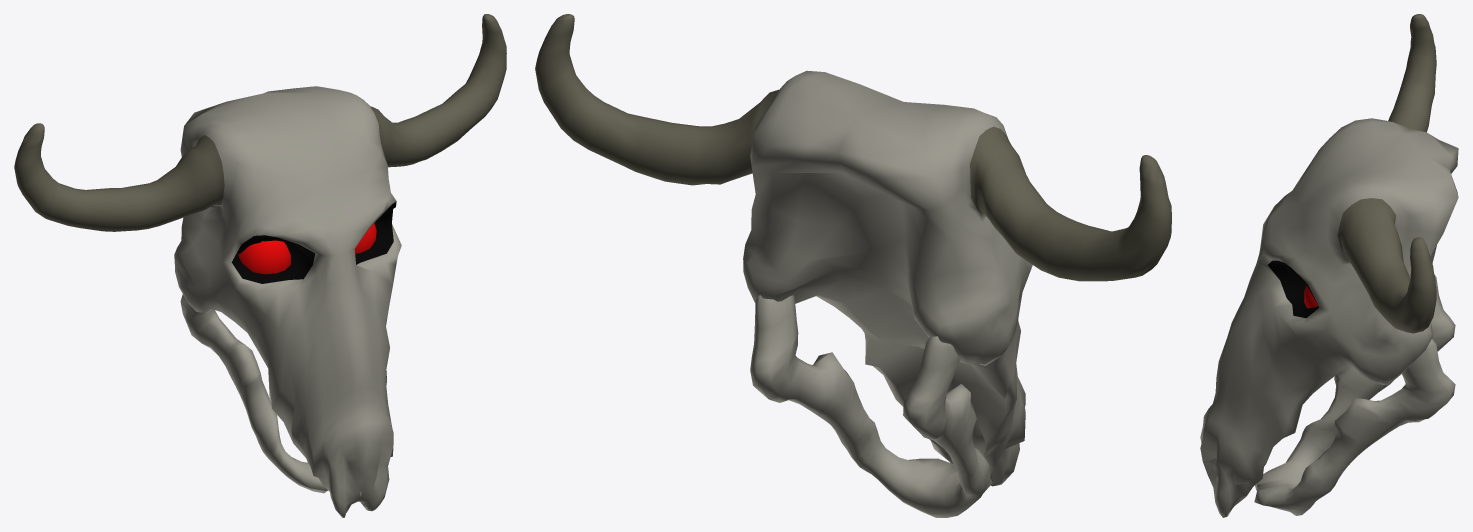
File: BullSkull.fbx
3 views of the same model, side by side, from view 1: azimuth 30°, elevation 25°; view 2: azimuth 150°, elevation 25°; view 3: azimuth 270°, elevation 25° (orthographic). The views are drawn at different scales.
Visible parts, largest first — view 1: Skull, Jaw, eye02; view 2: Skull, Jaw; view 3: Skull, Jaw.
Boxes of the visible parts, <box> form: Skull: <box>14,14,506,517</box>; Jaw: <box>180,294,327,493</box>; eye02: <box>238,240,290,274</box>; Skull: <box>535,14,1171,486</box>; Jaw: <box>750,295,991,517</box>; Skull: <box>1200,14,1458,517</box>; Jaw: <box>1254,274,1455,515</box>.
Bounding box in the file's own units: 20.07 × 14.89 × 8.98.
